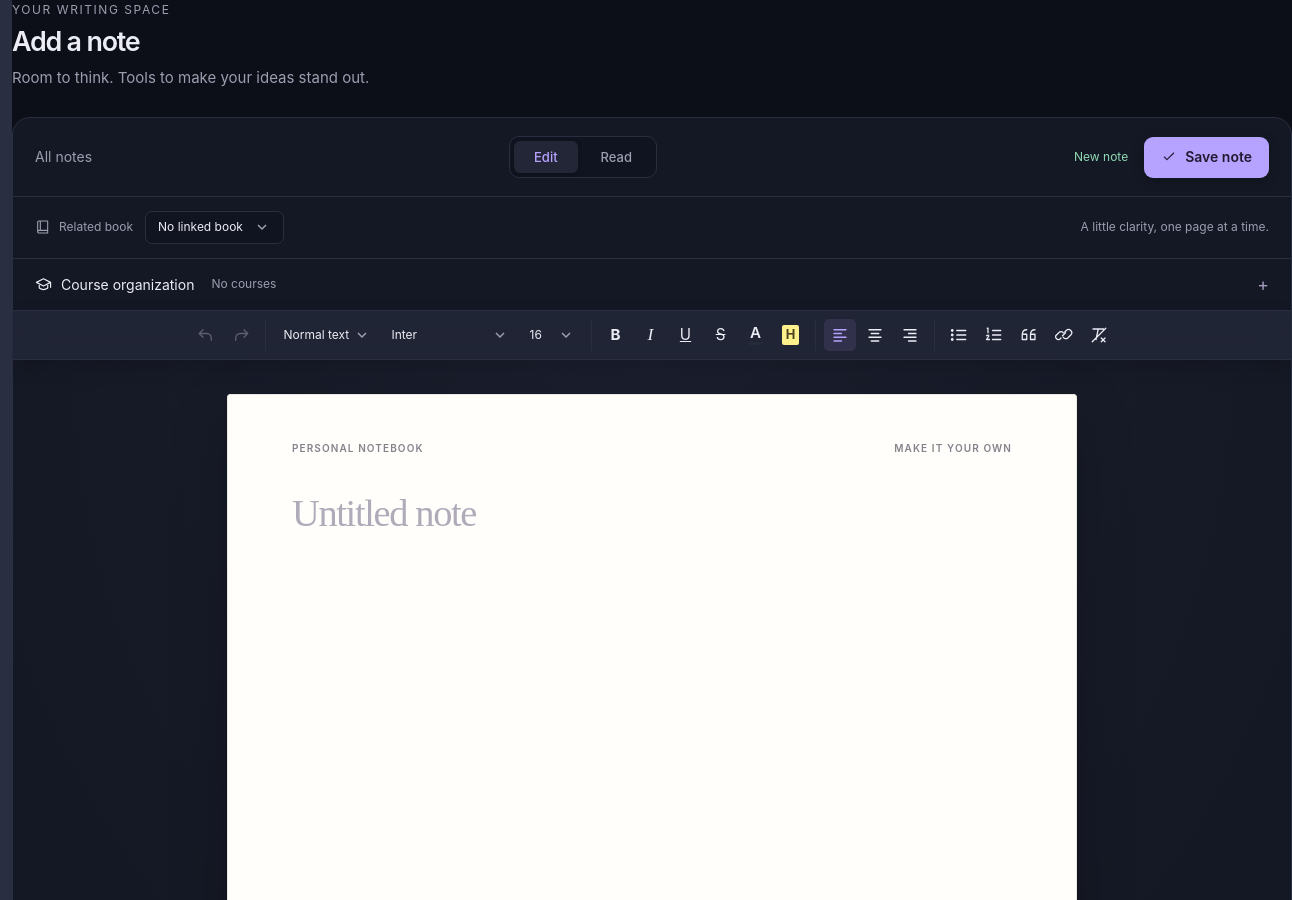
Test case: note reading and editing › prevents saving a blank new note and provides useful validation
Expected: the heading "Add a note" is shown, [12,25,140,57]
Click the button "Save note" at [1207, 157], box [1144,137,1269,178]
(page scrolled)
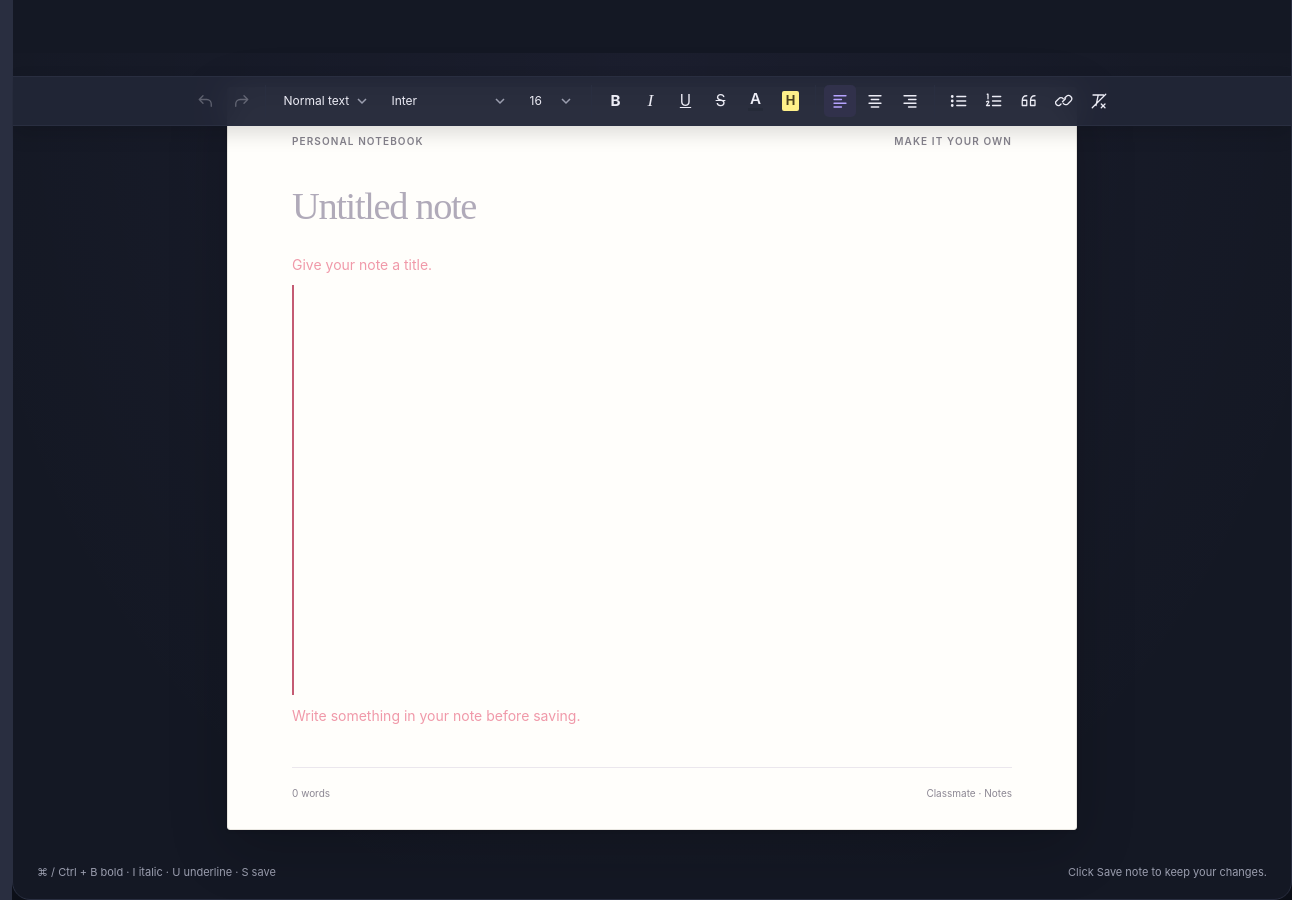
Now the text "Give your note a title." is shown, box [292,256,432,272]
Now the text "Write something in your note before saving." is shown, box [292,707,580,724]
